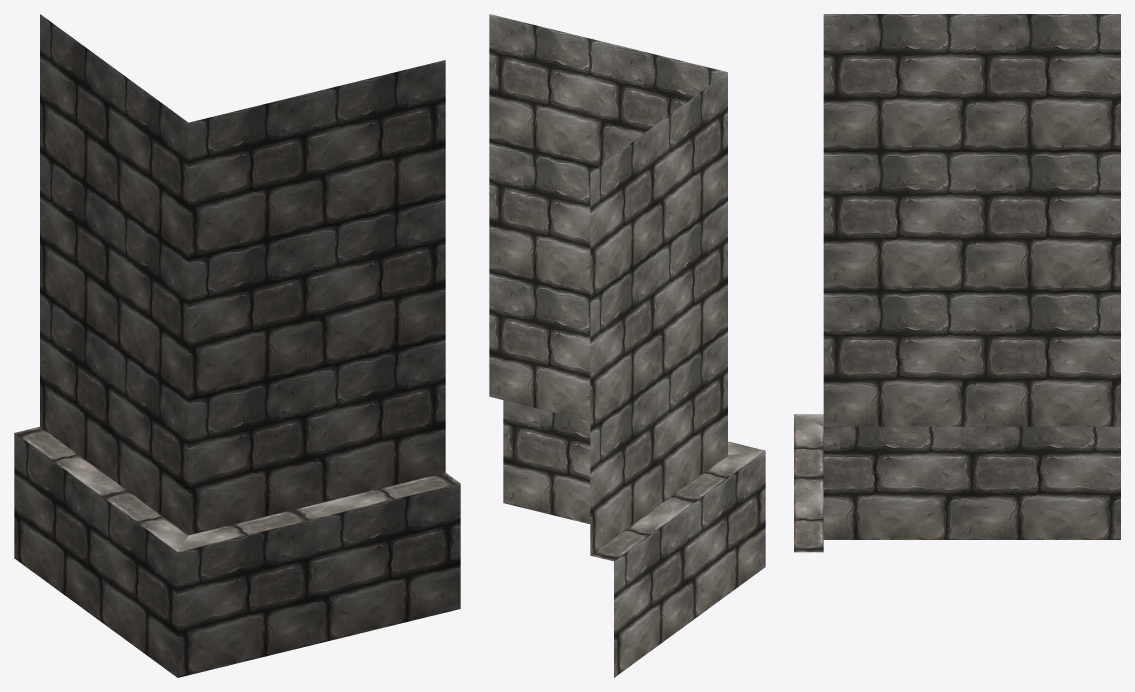
Rendered from Castle Walls Corner 1.FBX.
3 renders of one model, left to right at view 1: azimuth 30°, elevation 25°; view 2: azimuth 150°, elevation 25°; view 3: azimuth 270°, elevation 25°, orthographic. The views are drawn at different scales.
Parts seen in each view (by area): view 1: Plane003; view 2: Plane003; view 3: Plane003.
Boxes of the visible parts, left/top/right/bottom form: Plane003: left=14, top=14, right=460, bottom=677; Plane003: left=489, top=14, right=765, bottom=677; Plane003: left=794, top=14, right=1120, bottom=552.
Bounding box in the file's own units: 2.79 × 5.08 × 2.79.
Materials: 1 (1 with a texture image).
